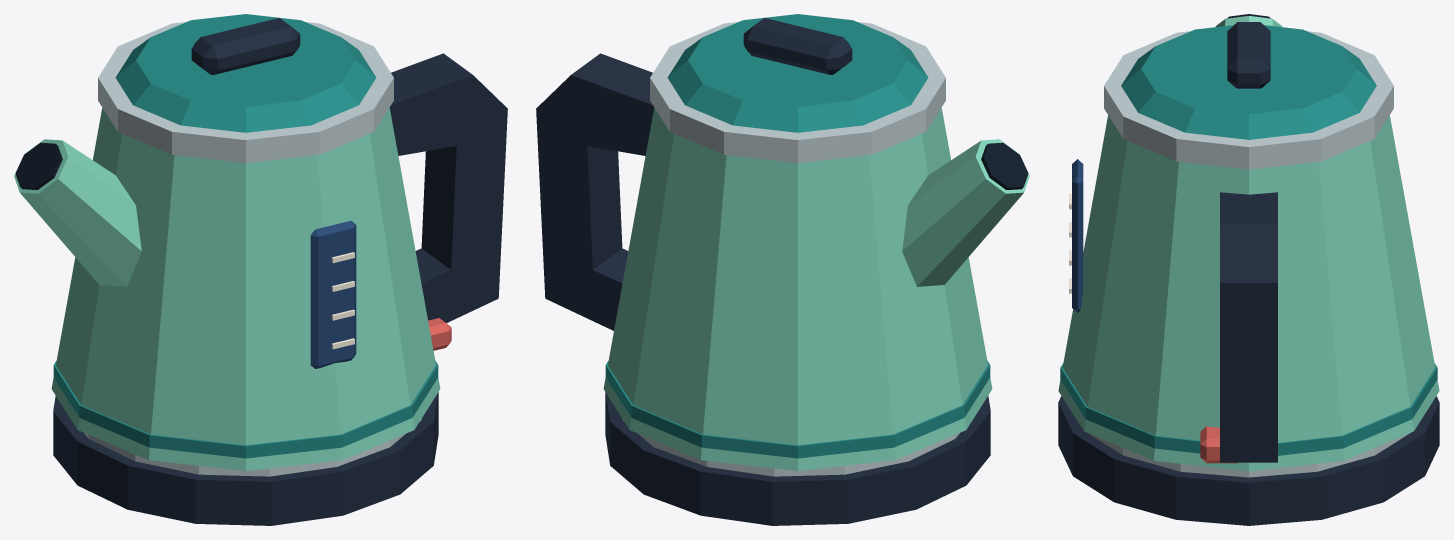
Rendered from Kettle.glb.
3 renders of one model, left to right at view 1: azimuth 30°, elevation 25°; view 2: azimuth 150°, elevation 25°; view 3: azimuth 270°, elevation 25°, orthographic. The views are drawn at different scales.
Parts seen in each view (by area): view 1: Kettle; view 2: Kettle; view 3: Kettle.
Part boxes in pixels (left/top/right/bottom): Kettle: left=14, top=14, right=507, bottom=525; Kettle: left=536, top=14, right=1029, bottom=525; Kettle: left=1058, top=14, right=1439, bottom=525.
Size of the model in its own units: 2.59 by 2.15 by 1.84.
1 material, 1 textured.
